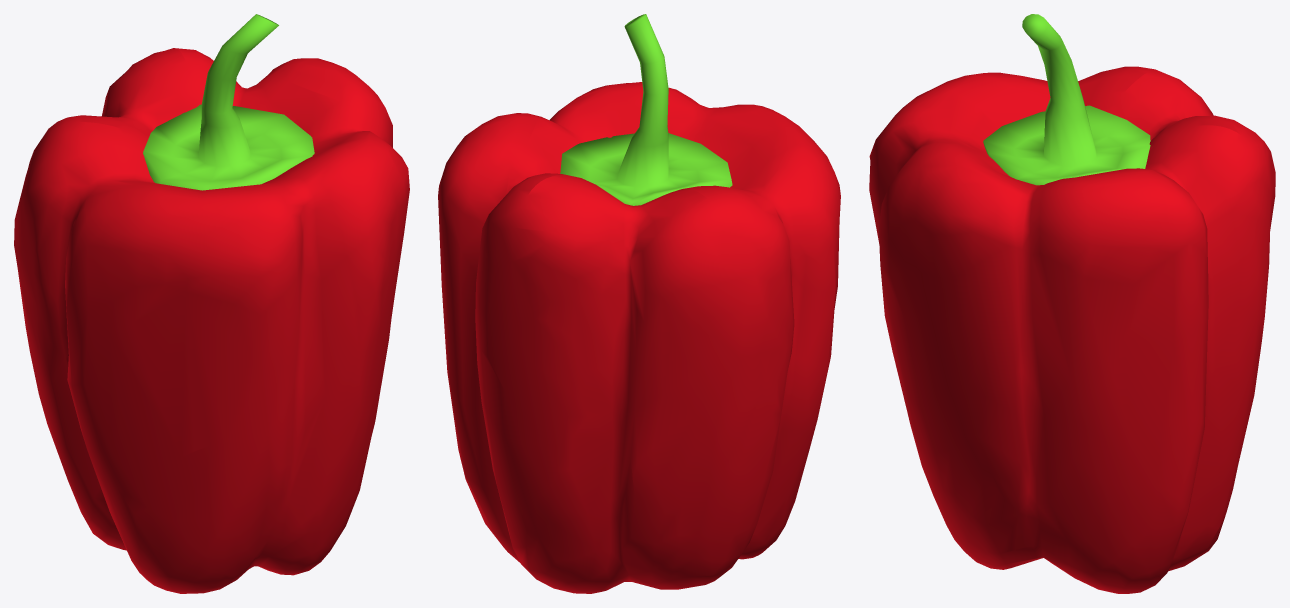
The model's file is bellPepper.fbx.
The picture shows the model from 3 angles, left to right: view 1: azimuth 30°, elevation 25°; view 2: azimuth 150°, elevation 25°; view 3: azimuth 270°, elevation 25°; orthographic projection. The views are drawn at different scales.
Parts seen in each view (by area): view 1: PepperWhole; view 2: PepperWhole; view 3: PepperWhole.
Part boxes in pixels (x1=…): PepperWhole: x1=14, y1=14, x2=409, y2=593; PepperWhole: x1=438, y1=14, x2=840, y2=593; PepperWhole: x1=869, y1=14, x2=1275, y2=593.
Size of the model in its own units: 0.2139 by 0.2119 by 0.3196.
